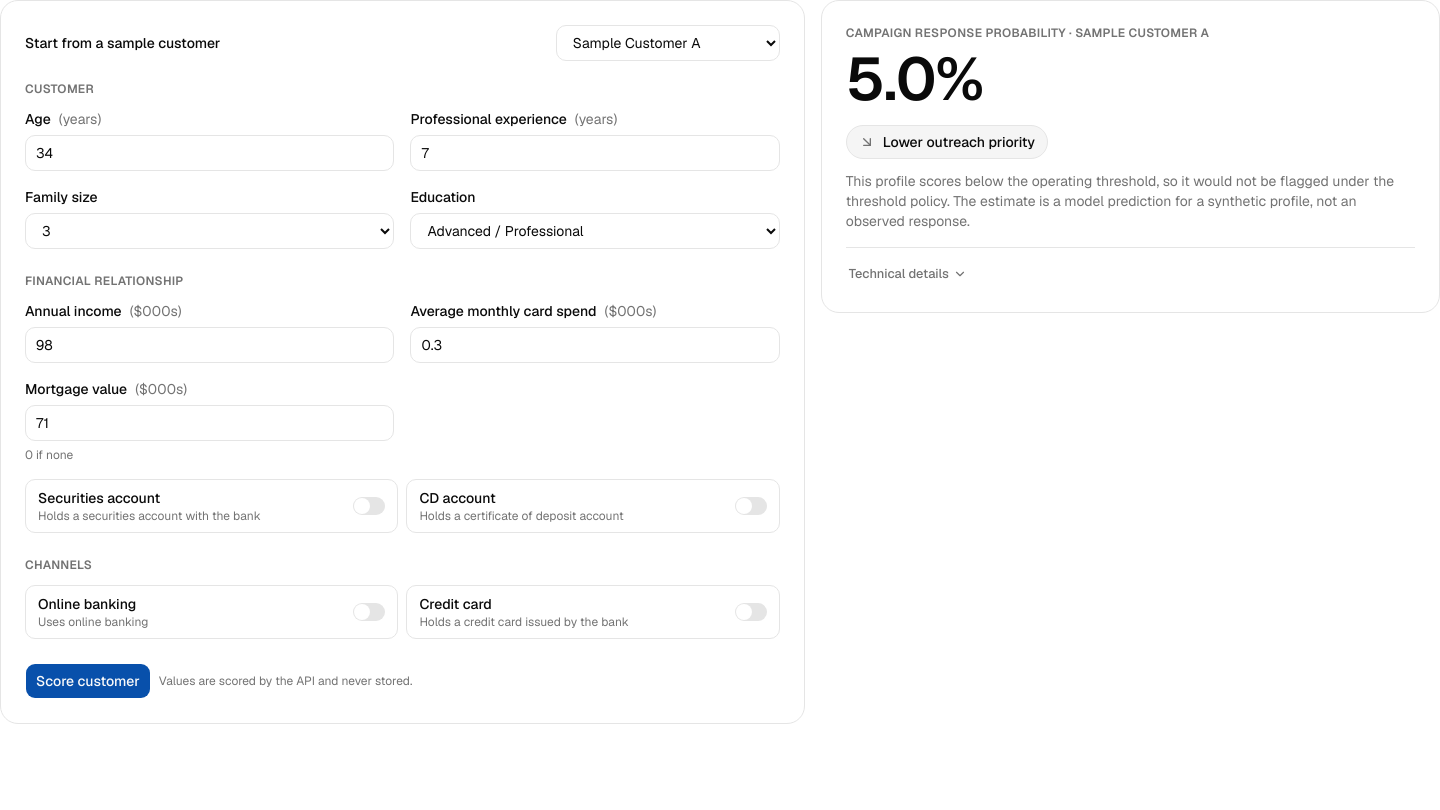
CustomerExplorer › scores the first sample customer on load and re-scores when another sample is chosen
Expected: the text "5.0%" is shown, x1=846 y1=40 x2=983 y2=118
Expected: the text "Lower outreach priority" is shown, x1=846 y1=125 x2=1048 y2=159
Select "Sample Customer D" in the dropdown labelled "Start from a sample customer" at [668, 43], box x1=556 y1=25 x2=780 y2=61
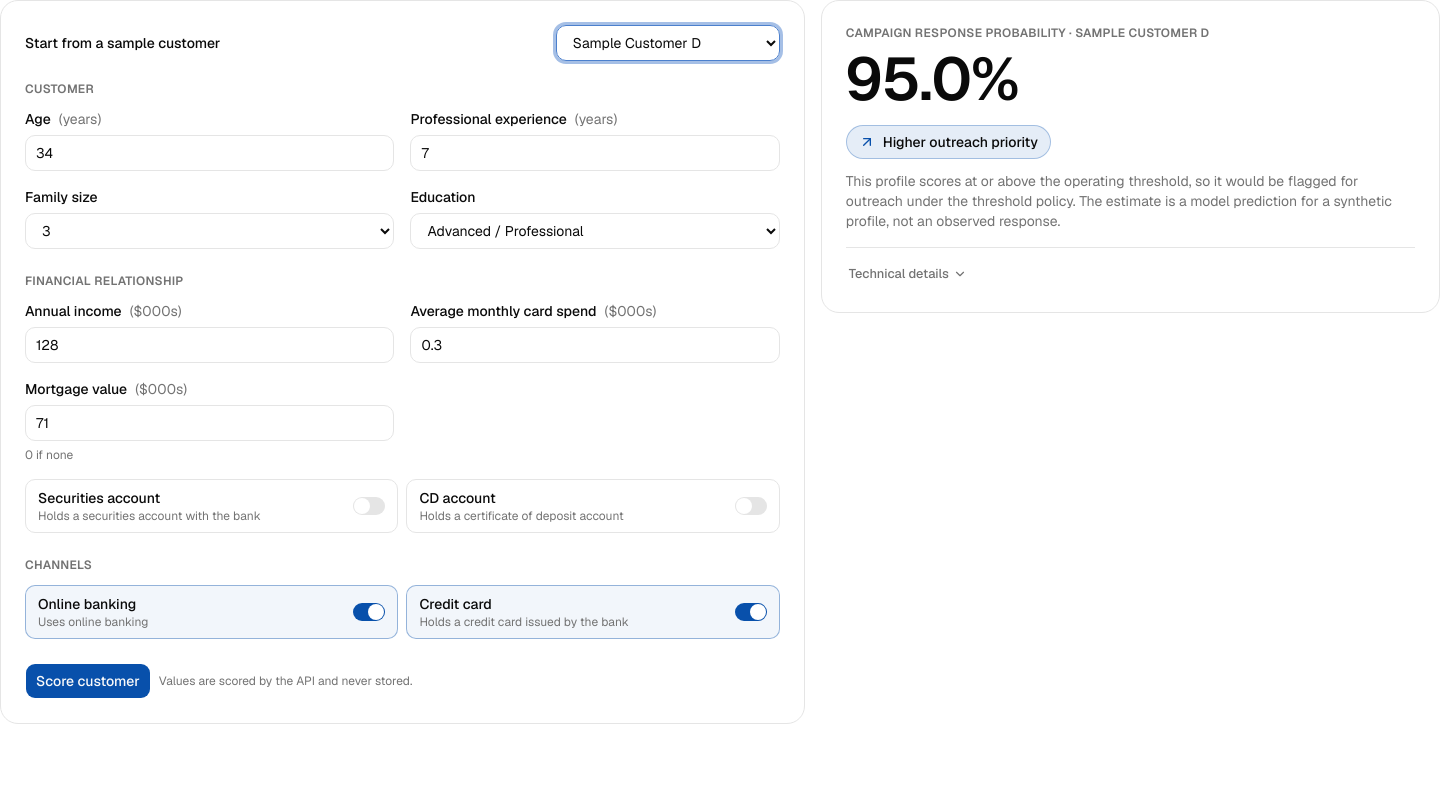
Now the text "95.0%" is shown, box x1=846 y1=40 x2=1018 y2=118
Now the text "Higher outreach priority" is shown, box x1=846 y1=125 x2=1051 y2=159
